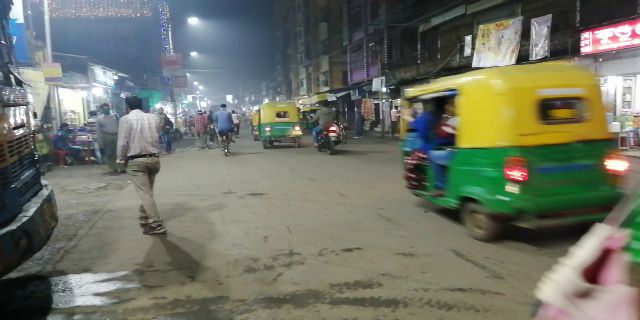Autorickshaw: (393, 63, 623, 234), (258, 98, 305, 148)
Motorbike: (314, 97, 345, 153)
